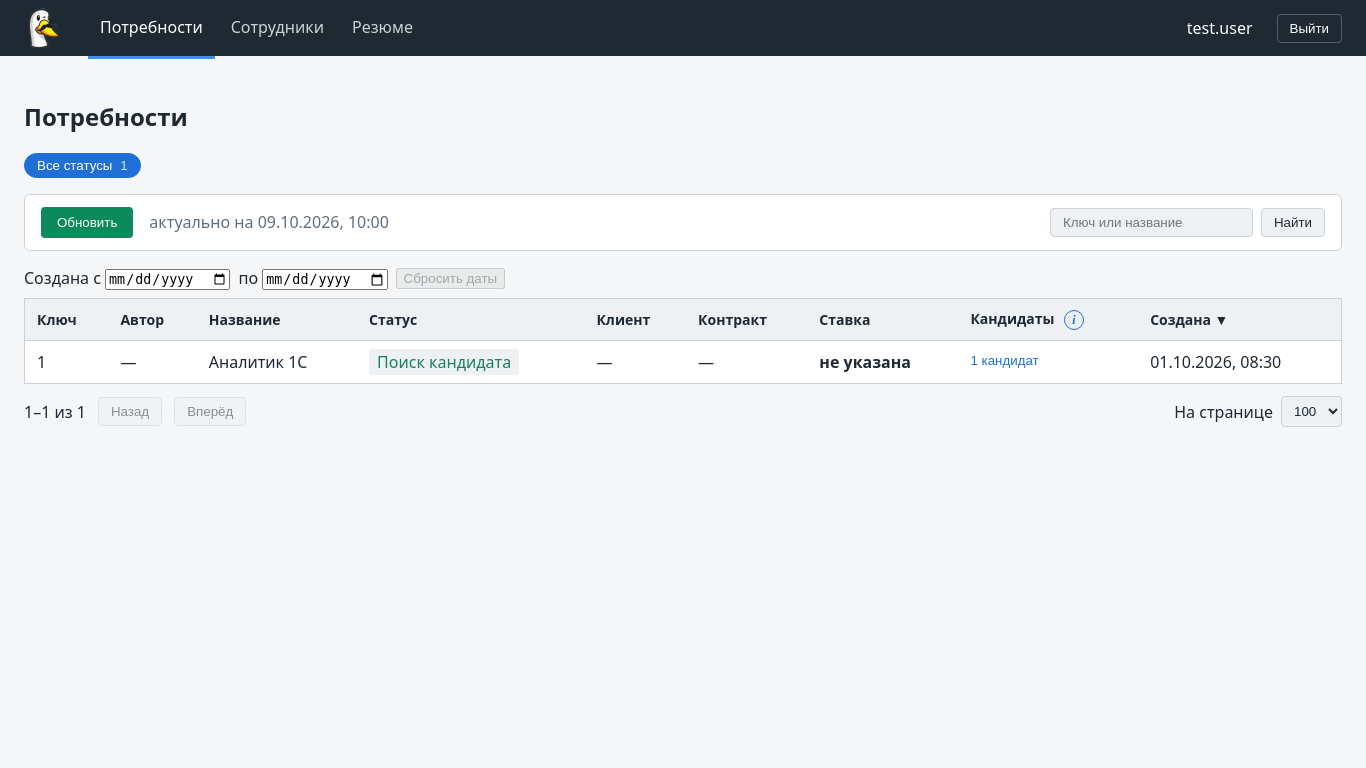
Потребности: сопоставление › строка статистики: при screened > 0 показывает предварительную оценку
Step 1. Click the button with aria-label "1 кандидат, AN-1" → (1005, 361), box [970, 351, 1039, 370]
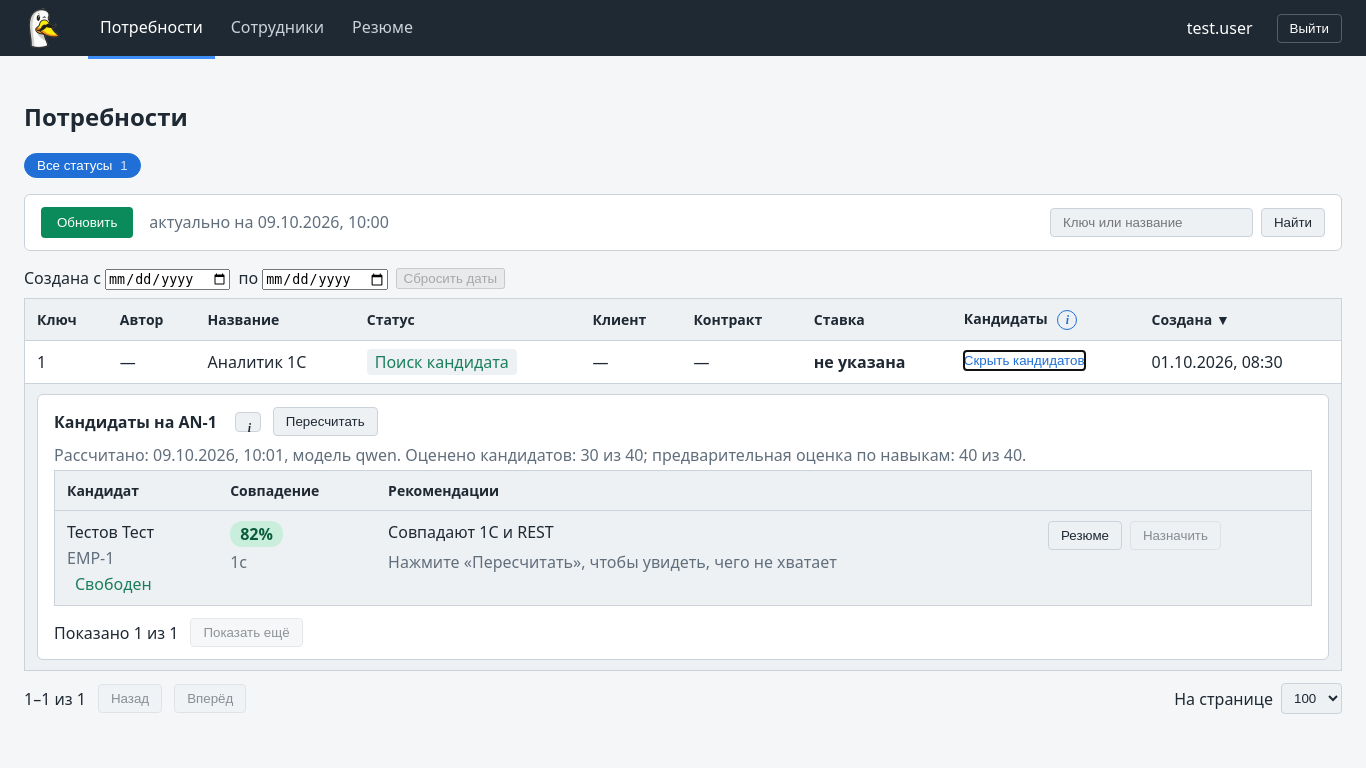
Expected: the text "Оценено кандидатов: 30 из 40" shows "предварительная оценка по навыкам: 40 из 40", [644, 444, 1022, 466]
